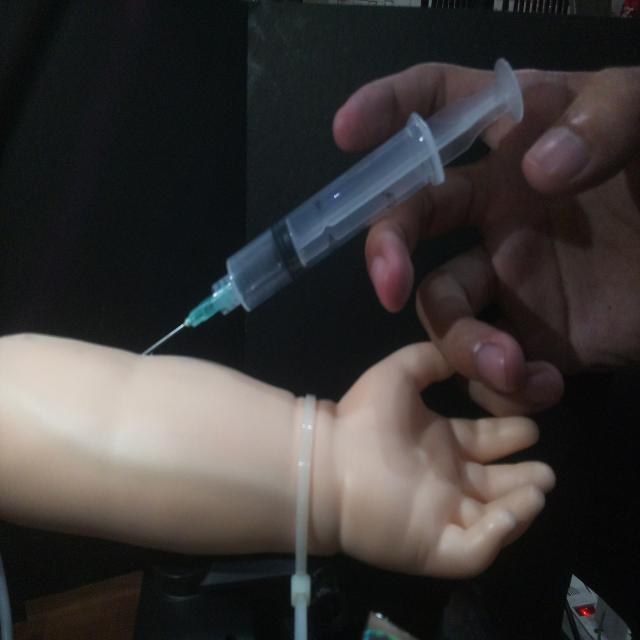29deg: (136, 54, 527, 358)
